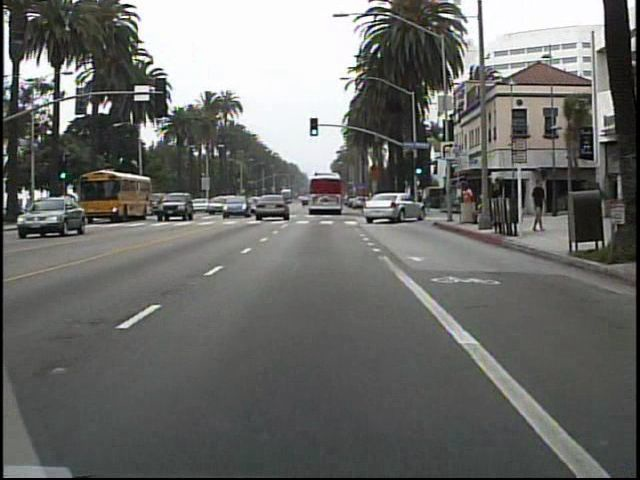person: (527, 175, 550, 234), (488, 180, 504, 225), (458, 182, 475, 222)
